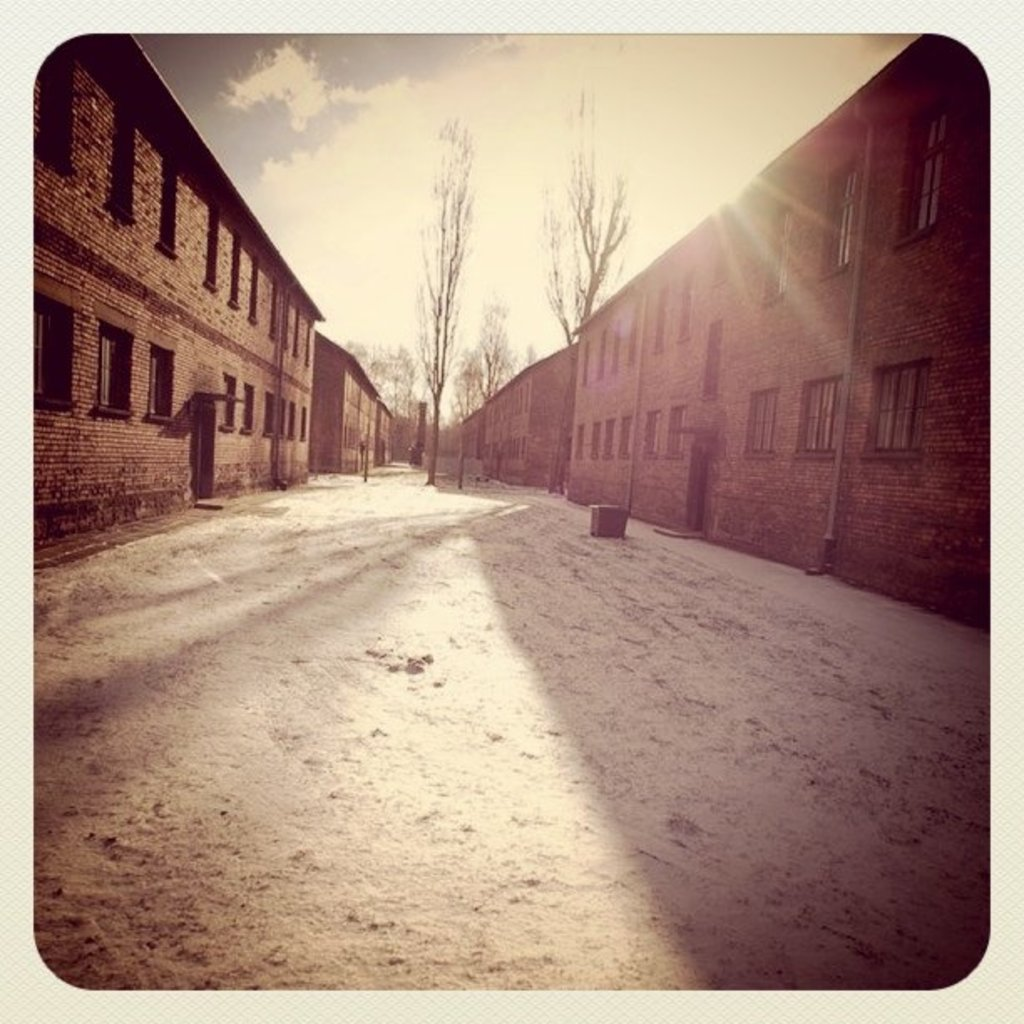Tree: (538, 85, 637, 349), (426, 123, 475, 481), (463, 287, 527, 401)
